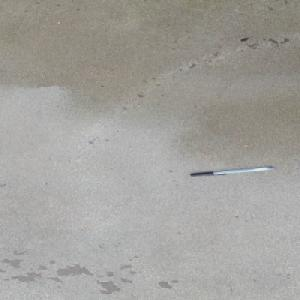Pen: (188, 165, 274, 177)
